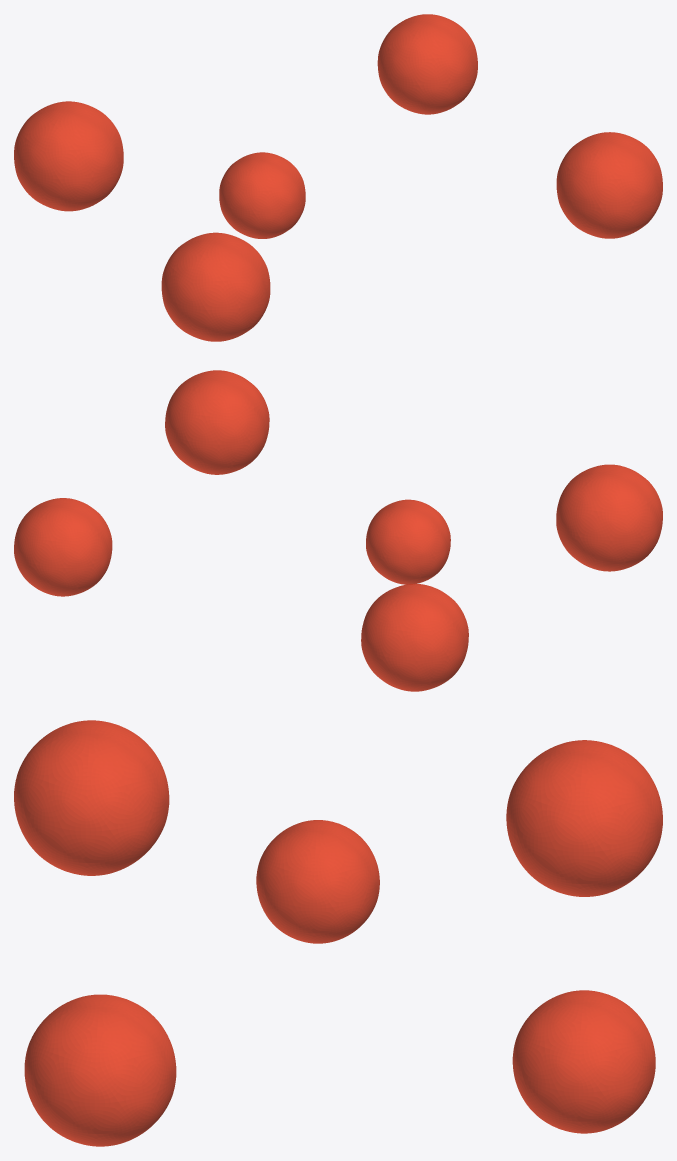
File: soupedWaterSky002_02.fbx
3 views of the same model, one above another, from view 1: azimuth 30°, elevation 25°; view 2: azimuth 150°, elevation 25°; view 3: azimuth 270°, elevation 25° (orthographic). The views are drawn at different scales.
Parts seen in each view (by area): view 1: waterSky002.002; view 2: waterSky002.002; view 3: waterSky002.002.
Part boxes in pixels (x1,y1,x2,y2): waterSky002.002: (14,14,662,341); waterSky002.002: (14,370,662,691); waterSky002.002: (14,720,662,1146).
Size of the model in its own units: 136 by 27.35 by 109.
